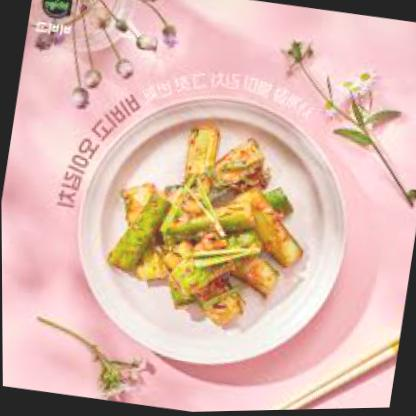cucumber kimchi: (120, 134, 299, 327)
